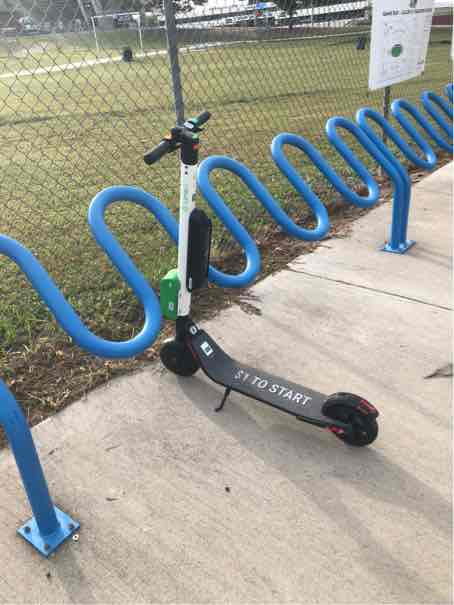scooter: (126, 92, 389, 458)
